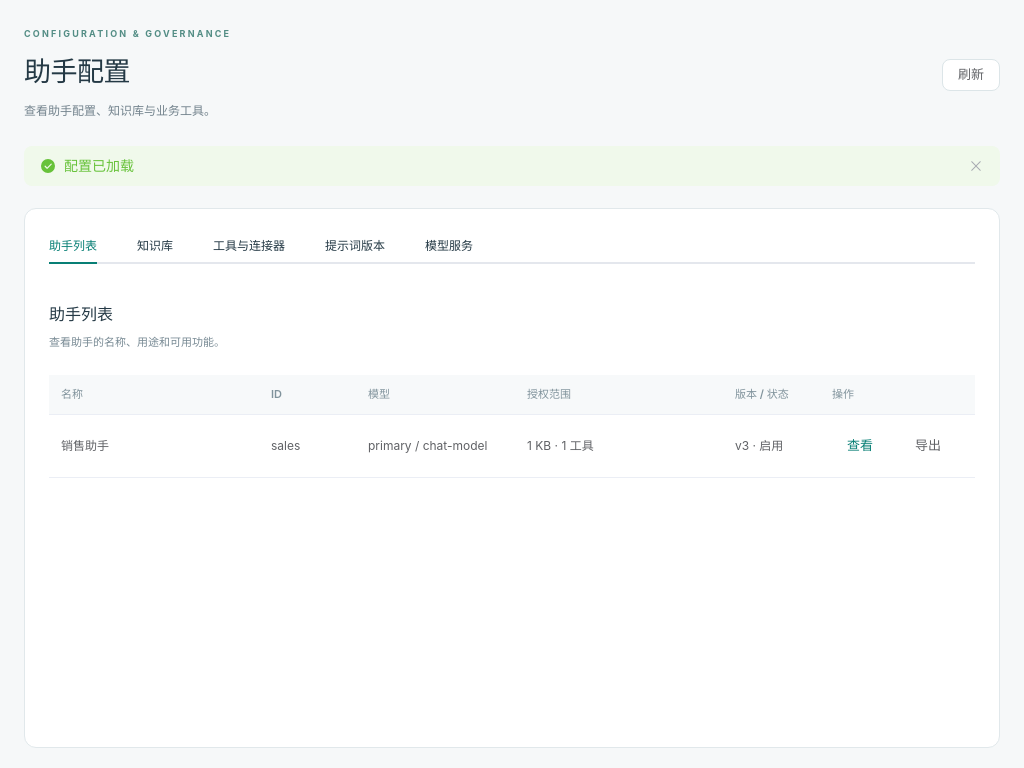
management access › shows complete read-only configuration without auditing or mutation controls
Step 1. Click the button "查看" → (860, 446), box x1=832 y1=430 x2=888 y2=462
(page scrolled)
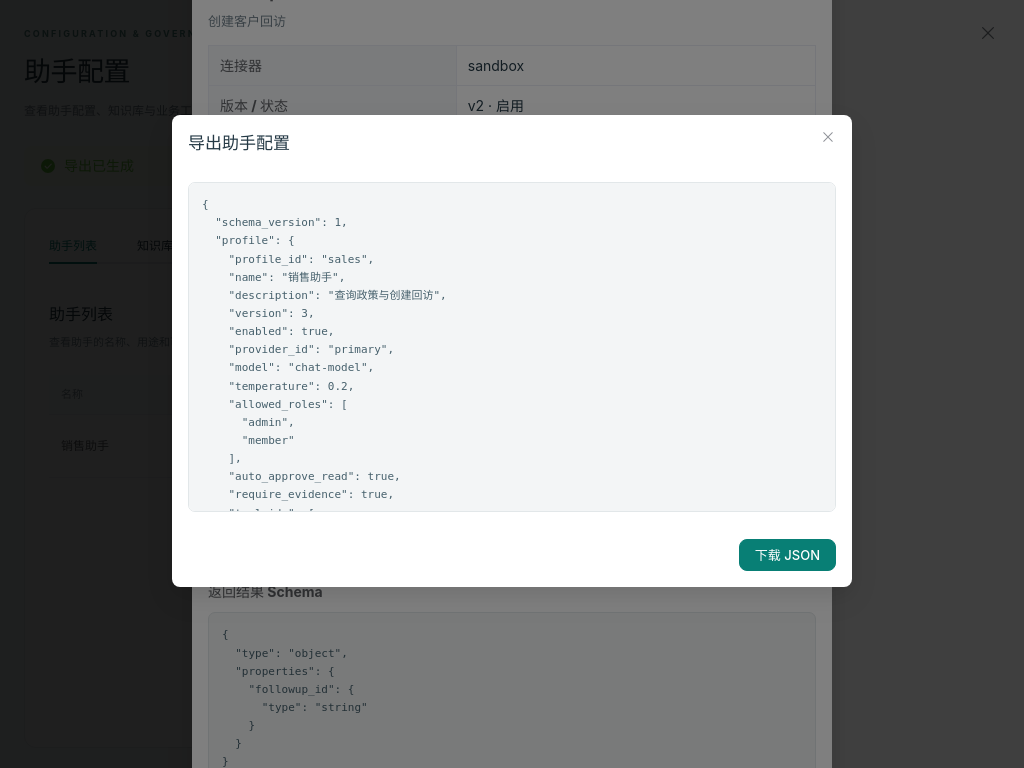
Expected: the element with class "tool-details" shows "high", x1=468 y1=177 x2=496 y2=194
Expected: the element with class "tool-details" shows "customer_id", x1=222 y1=413 x2=368 y2=553
Expected: the element with class "tool-details" shows "followup_id", x1=222 y1=628 x2=368 y2=767
